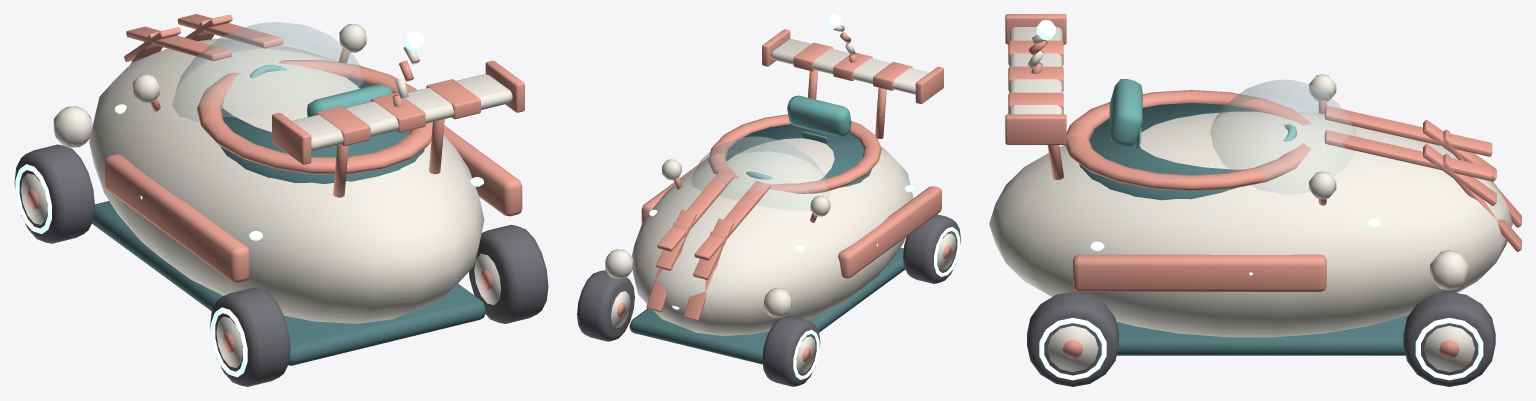
The model's file is kart-a.glb.
The picture shows the model from 3 angles, left to right: view 1: azimuth 30°, elevation 25°; view 2: azimuth 150°, elevation 25°; view 3: azimuth 270°, elevation 25°; orthographic projection. The views are drawn at different scales.
Visible parts, largest first — view 1: body, windshield, floor, cockpit_rim, side_band, wheel_rl, wheel_fl, wheel_rr, spoiler_wing, cockpit_tub, side_band.001, spoiler_end (+13 smaller); view 2: body, windshield, floor, cockpit_rim, wheel_fl, side_band, wheel_fr, wheel_rl, cockpit_tub, spoiler_wing, seat_head, stripe_top.001 (+16 smaller); view 3: body, windshield, side_band.001, cockpit_rim, floor, wheel_fr, wheel_rr, cockpit_tub, spoiler_wing, stripe_top, stripe_top.001, seat_head (+12 smaller).
Part boxes in pixels (left/top/right/bottom): body: left=89, top=39, right=484, bottom=323; windshield: left=172, top=22, right=362, bottom=121; floor: left=92, top=201, right=485, bottom=365; cockpit_rim: left=196, top=60, right=432, bottom=174; side_band: left=104, top=154, right=249, bottom=282; wheel_rl: left=210, top=287, right=290, bottom=386; wheel_fl: left=14, top=144, right=94, bottom=243; wheel_rr: left=469, top=225, right=548, bottom=323; spoiler_wing: left=292, top=74, right=512, bottom=150; cockpit_tub: left=220, top=77, right=424, bottom=183; side_band.001: left=443, top=125, right=522, bottom=216; spoiler_end: left=272, top=112, right=311, bottom=164; body: left=632, top=138, right=913, bottom=335; windshield: left=690, top=136, right=830, bottom=210; floor: left=629, top=247, right=904, bottom=364; cockpit_rim: left=708, top=114, right=881, bottom=193; wheel_fl: left=762, top=315, right=820, bottom=386; side_band: left=838, top=186, right=941, bottom=278; wheel_fr: left=577, top=270, right=634, bottom=341; wheel_rl: left=903, top=214, right=960, bottom=283; cockpit_tub: left=726, top=124, right=871, bottom=187; spoiler_wing: left=771, top=39, right=929, bottom=94; seat_head: left=787, top=95, right=851, bottom=136; stripe_top.001: left=657, top=172, right=733, bottom=251; body: left=989, top=111, right=1512, bottom=337; windshield: left=1210, top=79, right=1356, bottom=194; side_band.001: left=1073, top=254, right=1326, bottom=291; cockpit_rim: left=1065, top=90, right=1310, bottom=191; floor: left=1116, top=315, right=1408, bottom=355; wheel_fr: left=1403, top=291, right=1495, bottom=386; wheel_rr: left=1027, top=292, right=1118, bottom=386; cockpit_tub: left=1079, top=103, right=1255, bottom=200; spoiler_wing: left=1009, top=27, right=1062, bottom=114; stripe_top: left=1324, top=106, right=1492, bottom=156; stripe_top.001: left=1324, top=130, right=1492, bottom=180; seat_head: left=1109, top=79, right=1142, bottom=146.
Size of the model in its own units: 1.65 by 1.67 by 2.6.
